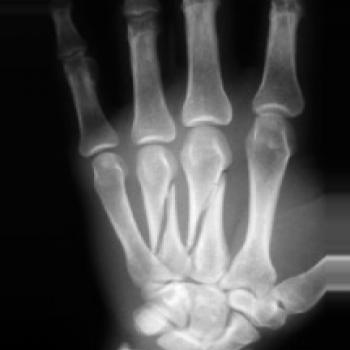Fracture: (187, 170, 232, 258), (147, 177, 179, 256)
